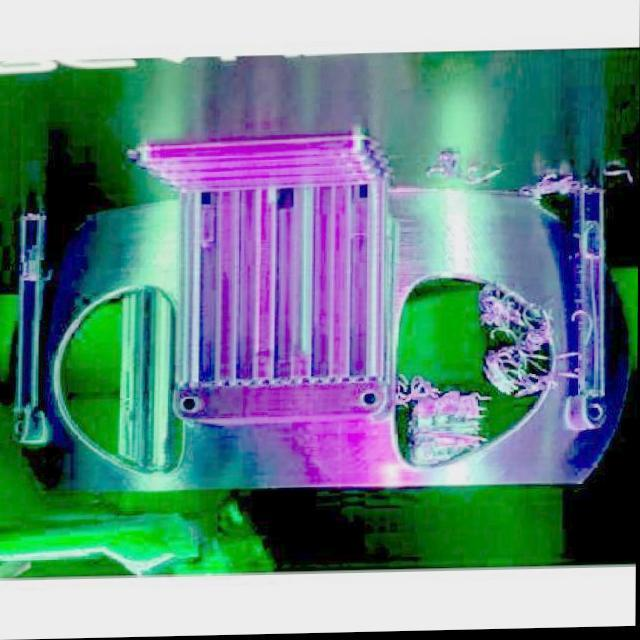spaghetti: (380, 278, 590, 476), (516, 166, 638, 211), (418, 150, 503, 200)
